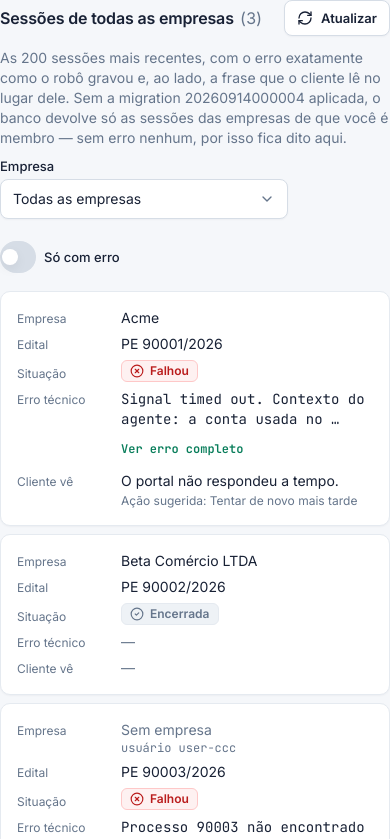
Test: diagnóstico de sessões › "Só com erro" esconde a sessão que terminou bem
Expected: the text "PE 90002/2026" is shown, [121,578,226,595]
Click the switch named "Só com erro": (18, 257) [0,241,36,273]
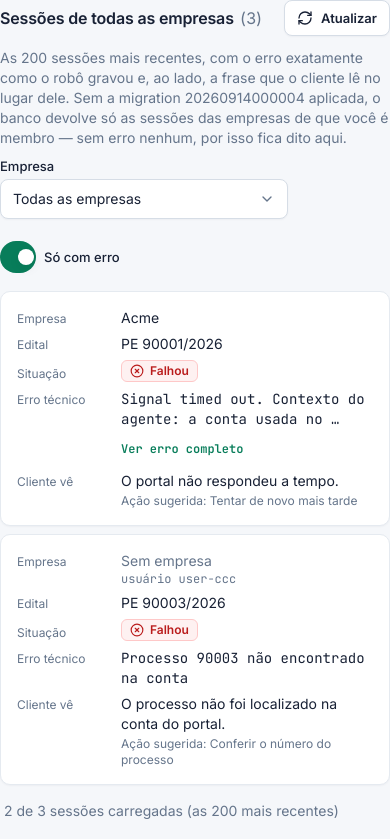
Expected: the text "PE 90001/2026" is shown, [121,335,223,352]
Result: the text "PE 90002/2026" is gone
